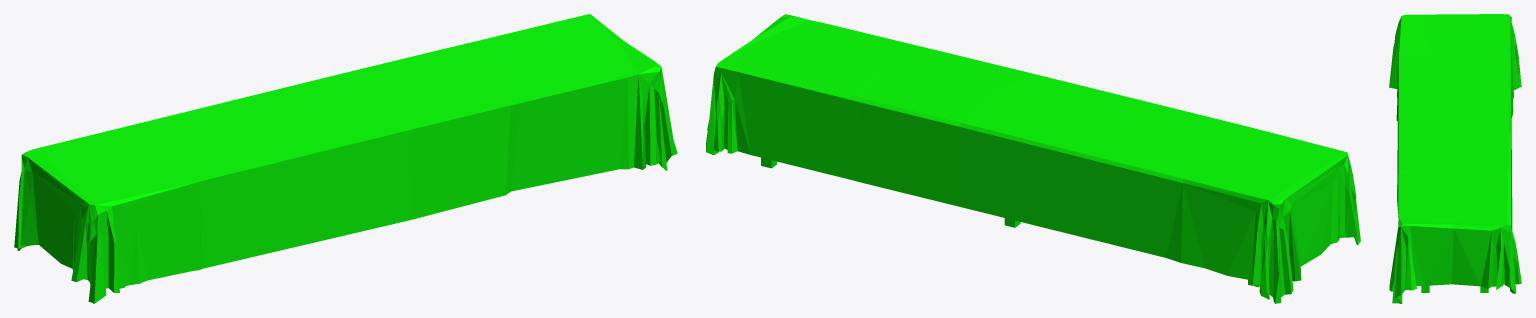
File: SM_Table_Market_B_Long.fbx
3 views of the same model, side by side, from view 1: azimuth 30°, elevation 25°; view 2: azimuth 150°, elevation 25°; view 3: azimuth 270°, elevation 25° (orthographic). The views are drawn at different scales.
Visible parts, largest first — view 1: table-market-b-long; view 2: table-market-b-long; view 3: table-market-b-long.
Boxes of the visible parts, x1,y1,x2,y2 form: table-market-b-long: (14, 14, 677, 303); table-market-b-long: (706, 14, 1360, 303); table-market-b-long: (1389, 14, 1521, 303).
Bounding box in the file's own units: 4.89 × 0.8216 × 1.23.
